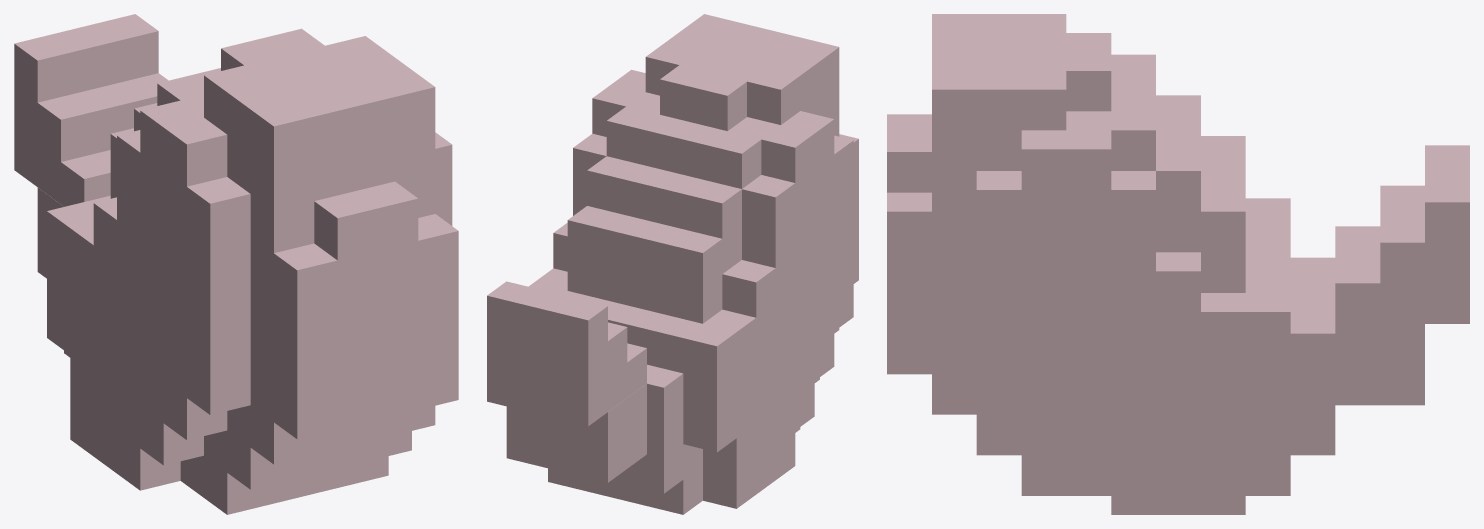
Rendered from toriBD.obj.
The picture shows the model from 3 angles, left to right: view 1: azimuth 30°, elevation 25°; view 2: azimuth 150°, elevation 25°; view 3: azimuth 270°, elevation 25°; orthographic projection. The views are drawn at different scales.
Parts seen in each view (by area): view 1: 立方体.036; view 2: 立方体.036; view 3: 立方体.036.
Part boxes in pixels (x1,y1,x2,y2): 立方体.036: (14, 14, 458, 514); 立方体.036: (487, 14, 858, 514); 立方体.036: (887, 14, 1469, 514).
Bounding box in the file's own units: 0.96 × 1.6 × 2.08.
